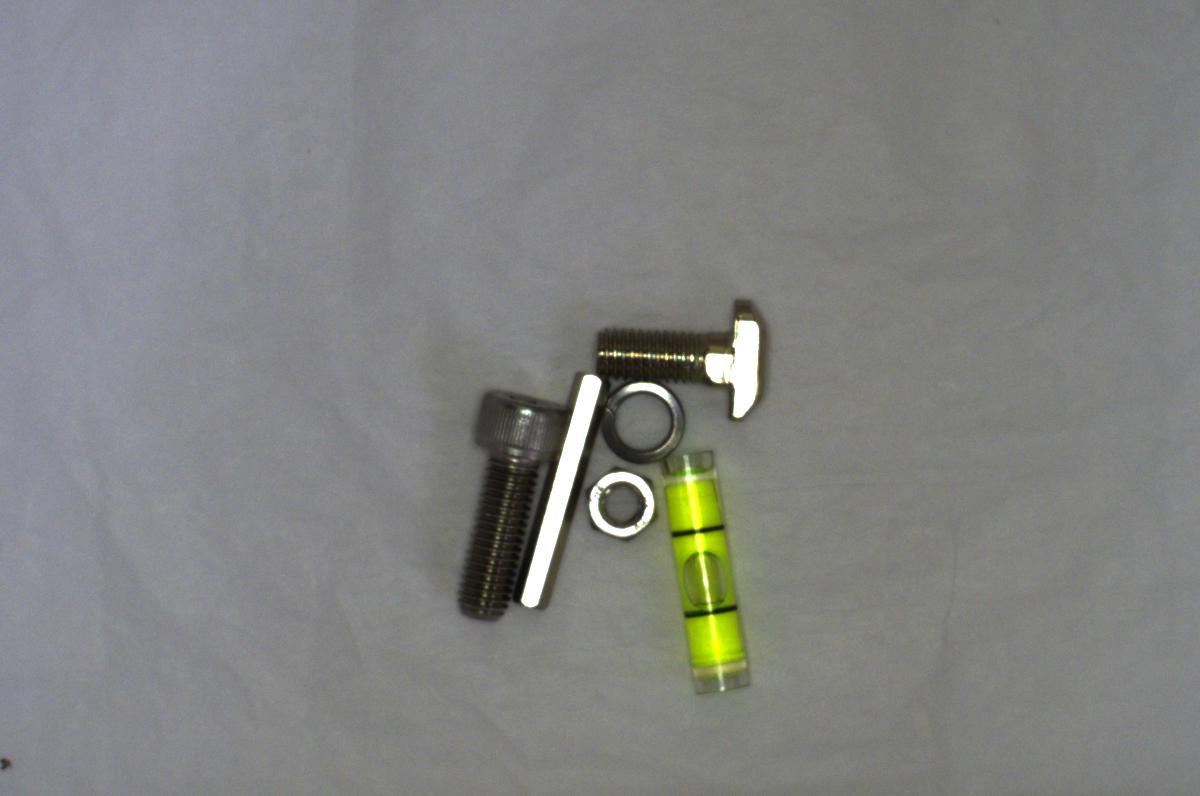Double hexagonal column: (515, 358, 604, 622)
Hexagon nut: (582, 466, 664, 543)
Horizontal bubble: (647, 441, 762, 705)
Spring washer: (597, 374, 694, 466)
T-shaped screw: (590, 292, 773, 425)
